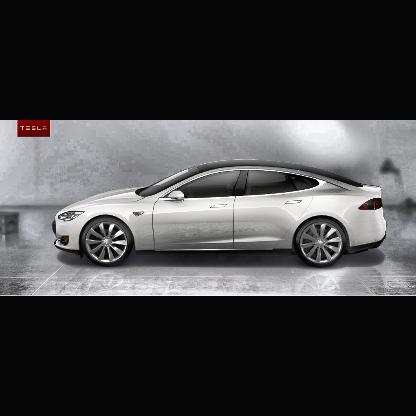Tesla Model S Sedan 2012: (54, 160, 389, 268)
